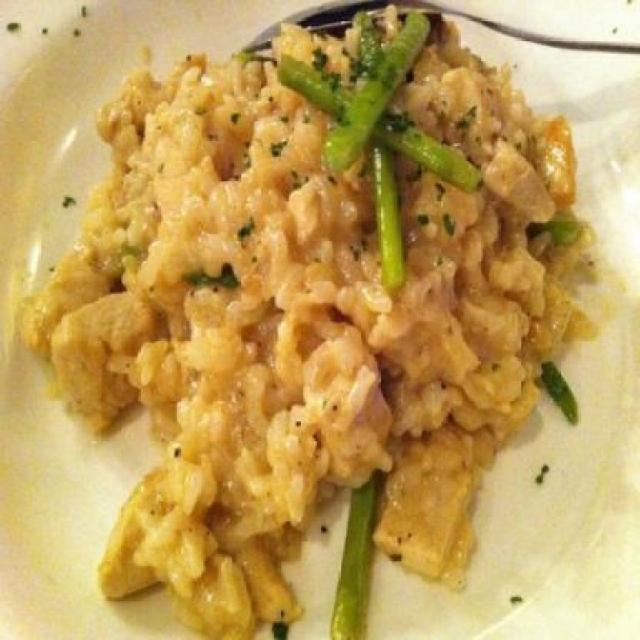Risotto: (17, 22, 568, 620)
